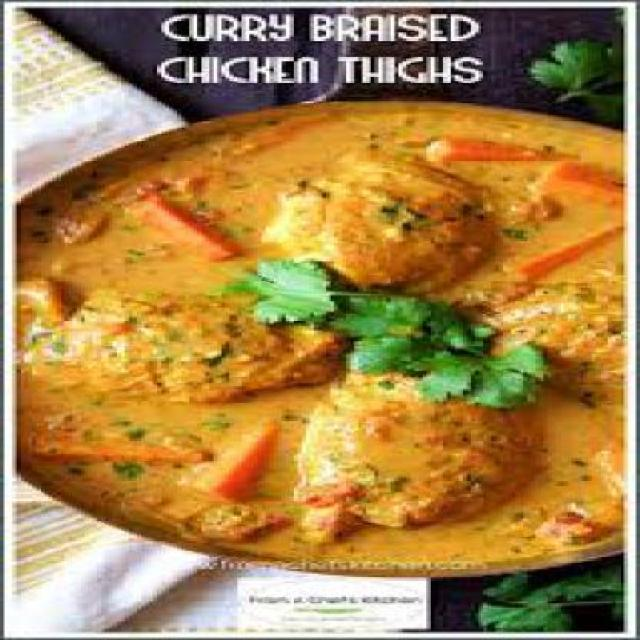CHICKEN CURRY: (16, 117, 623, 568)
